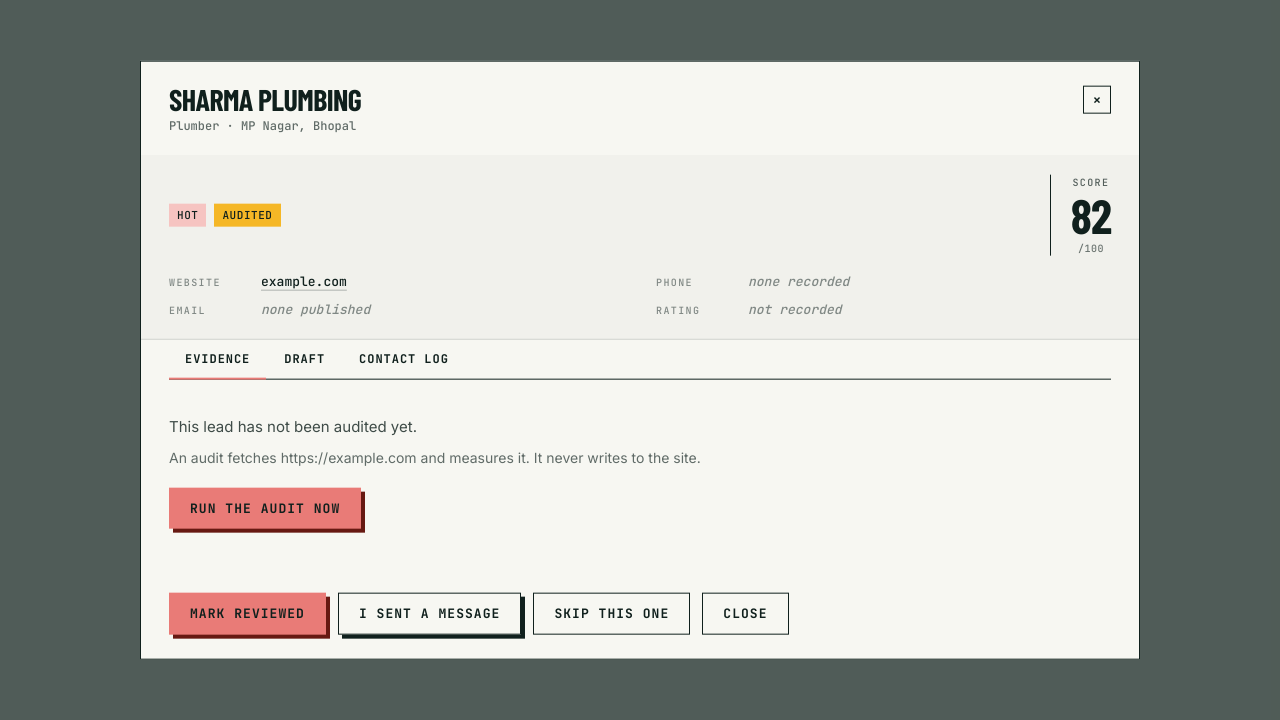
Test: the draft tab › marks the languages that have a draft and shows the selected one
Click the tab "Draft" at (305, 360), box [268, 340, 341, 380]
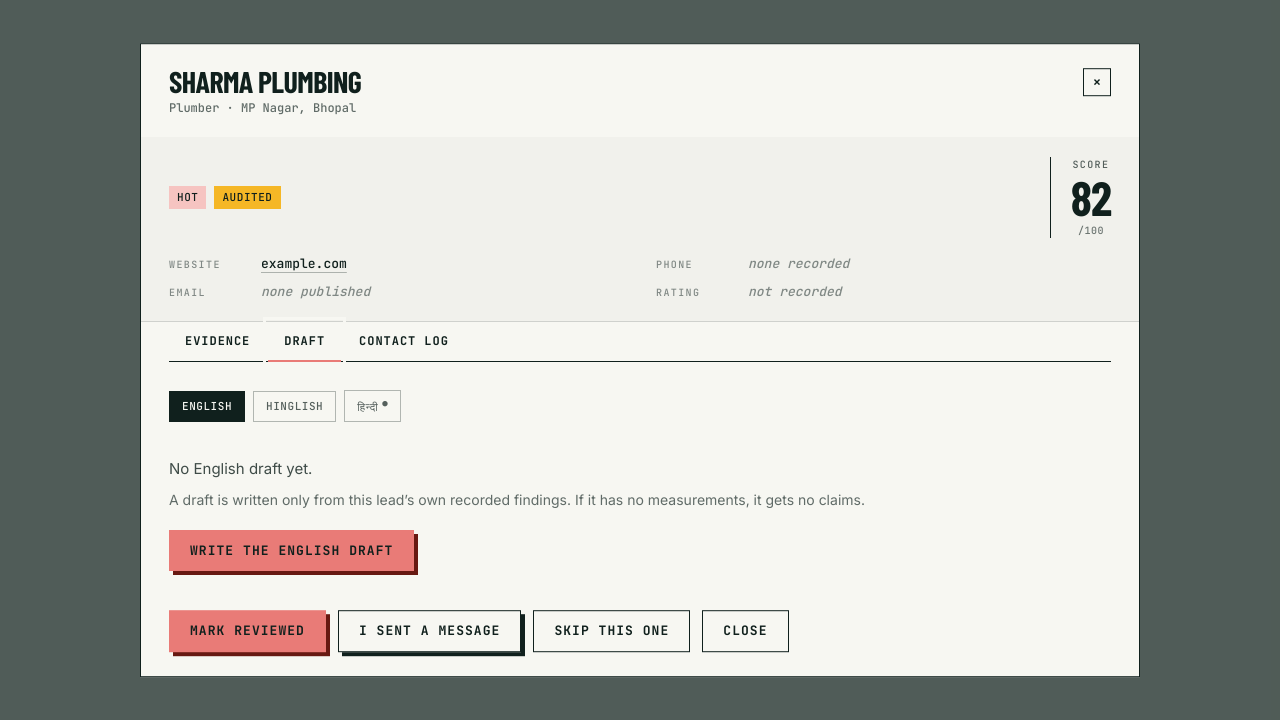
expect the text "No English draft yet." is shown: met, box [169, 460, 312, 478]
expect the button named "हिन्दी — draft ready" is shown: met
Click the button named "हिन्दी — draft ready" at (373, 406), box [344, 390, 401, 423]
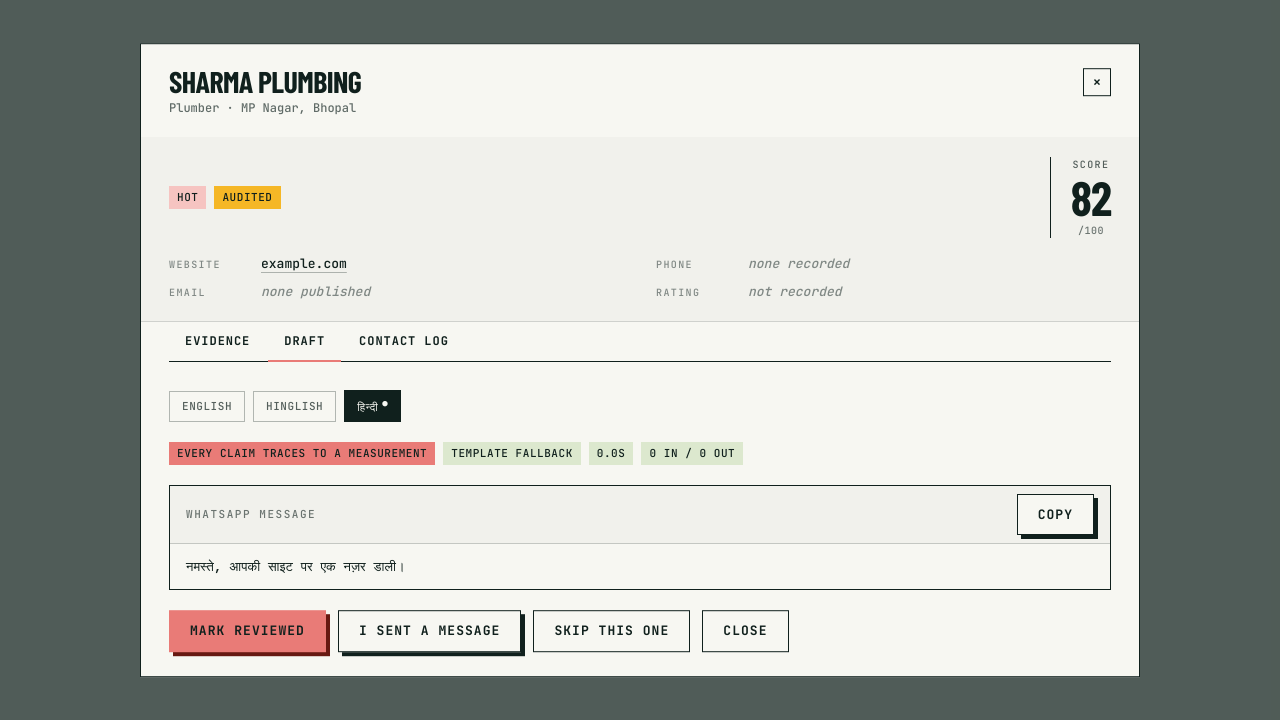
expect the text "नमस्ते, आपकी साइट पर एक नज़र डाली।" is shown: met, box [186, 558, 405, 576]
